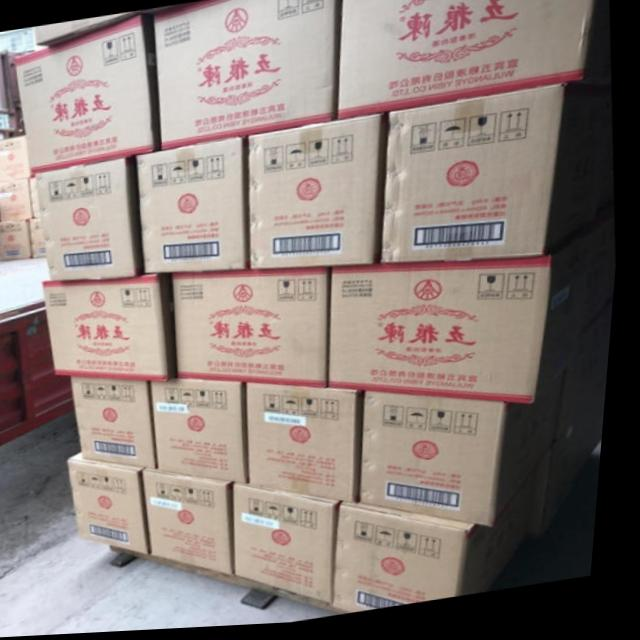box: (129, 250, 304, 464), (112, 65, 288, 276), (278, 43, 443, 247), (297, 229, 457, 436), (437, 26, 591, 229), (451, 209, 604, 412), (149, 438, 317, 620), (309, 410, 470, 597), (4, 274, 142, 483), (461, 384, 607, 575), (10, 464, 160, 637), (0, 81, 124, 290), (117, 0, 279, 81), (277, 0, 436, 62), (0, 15, 117, 96), (434, 0, 584, 43)
